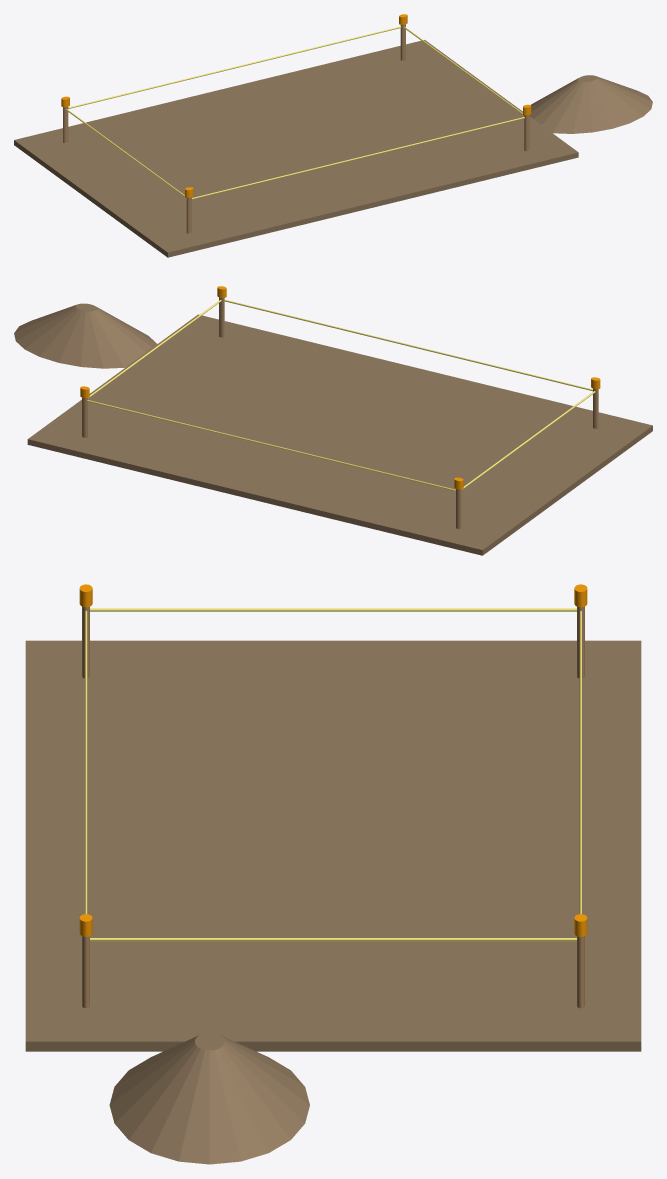
File: Building1Stage0.glb
3 renders of one model, top to bottom at view 1: azimuth 30°, elevation 25°; view 2: azimuth 150°, elevation 25°; view 3: azimuth 270°, elevation 25°, orthographic. The views are drawn at different scales.
Parts seen in each view (by area): view 1: building1_stage0; view 2: building1_stage0; view 3: building1_stage0.
Boxes of the visible parts, <box> form: building1_stage0: <box>14,14,652,257</box>; building1_stage0: <box>14,286,652,555</box>; building1_stage0: <box>25,584,641,1164</box>.
Size of the model in its own units: 9.67 by 0.8624 by 4.9.
